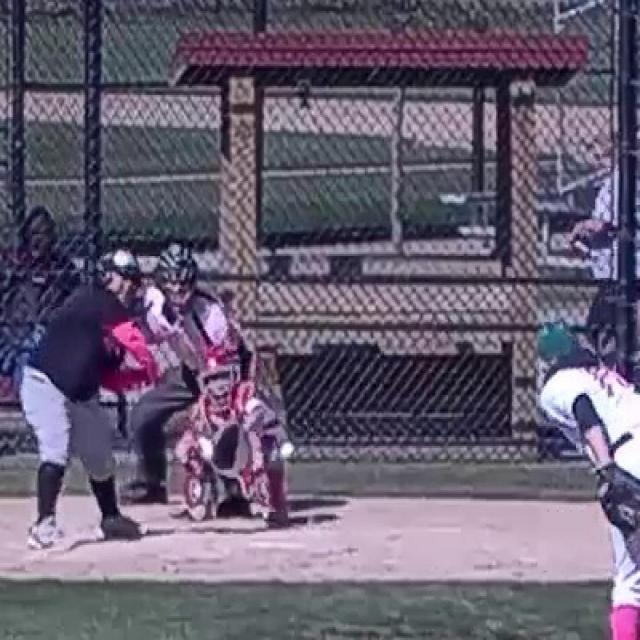baseball: (281, 444, 294, 456)
